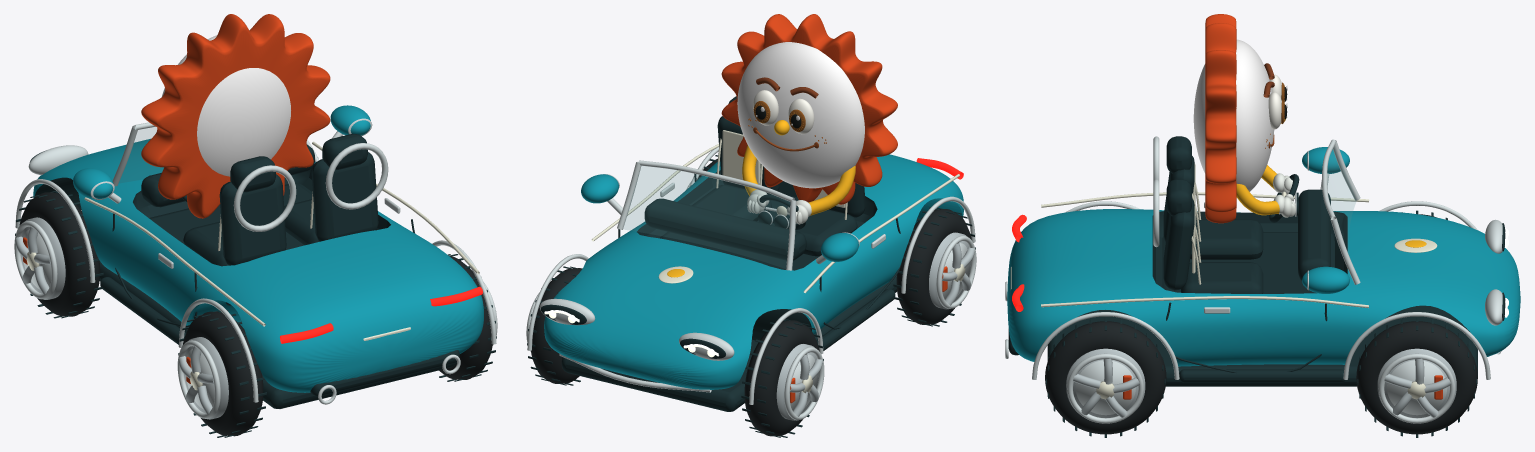
The model's file is sunny-roadster-v2.glb.
3 renders of one model, left to right at view 1: azimuth 30°, elevation 25°; view 2: azimuth 150°, elevation 25°; view 3: azimuth 270°, elevation 25°, orthographic. The views are drawn at different scales.
Visible parts, largest first — view 1: Continuous sculpted body shell, Organic fourteen ray corona, Sculpted Sunny body, Rounded performance tire.001, Rounded performance tire, Sport seat back, Sport seat back.001, Dark chassis, Cockpit carpet, Rear diffuser, Rounded performance tire.003, Side skirt (+24 smaller); view 2: Continuous sculpted body shell, Sculpted Sunny body, Curved transparent windshield, Organic fourteen ray corona, Dashboard, Rounded performance tire, Rounded performance tire.001, Dark chassis, Rounded performance tire.002, Cockpit carpet, Sport seat cushion, Sport seat cushion.001 (+25 smaller); view 3: Continuous sculpted body shell, Organic fourteen ray corona, Rounded performance tire.002, Rounded performance tire.003, Sculpted Sunny body, Dark chassis, Cockpit carpet, Sport seat cushion, Dashboard, Sport seat cushion.001, Side skirt.001, Sport seat back.001 (+20 smaller).
Boxes of the visible parts, box(x1,y1,x2,y2) form: Continuous sculpted body shell: box(33, 138, 483, 392); Organic fourteen ray corona: box(141, 14, 330, 218); Sculpted Sunny body: box(162, 35, 290, 176); Rounded performance tire.001: box(182, 311, 263, 436); Rounded performance tire: box(19, 192, 100, 316); Sport seat back: box(219, 174, 286, 265); Sport seat back.001: box(311, 152, 378, 241); Dark chassis: box(99, 261, 456, 408); Cockpit carpet: box(149, 183, 312, 305); Rear diffuser: box(310, 350, 459, 396); Rounded performance tire.003: box(439, 256, 492, 379); Side skirt: box(100, 277, 186, 344); Continuous sculpted body shell: box(544, 154, 963, 389); Sculpted Sunny body: box(737, 42, 864, 188); Curved transparent windshield: box(623, 166, 789, 268); Organic fourteen ray corona: box(721, 14, 897, 204); Dashboard: box(644, 198, 806, 260); Rounded performance tire: box(744, 320, 819, 436); Rounded performance tire.001: box(896, 209, 971, 324); Dark chassis: box(561, 275, 896, 411); Rounded performance tire.002: box(531, 268, 582, 383); Cockpit carpet: box(659, 200, 864, 270); Sport seat cushion: box(788, 209, 857, 256); Sport seat cushion.001: box(692, 184, 771, 221); Continuous sculpted body shell: box(1007, 209, 1520, 366); Organic fourteen ray corona: box(1205, 14, 1236, 223); Rounded performance tire.002: box(1356, 321, 1477, 434); Rounded performance tire.003: box(1045, 321, 1166, 434); Sculpted Sunny body: box(1193, 39, 1274, 191); Dark chassis: box(1047, 305, 1477, 386); Cockpit carpet: box(1162, 232, 1334, 293); Sport seat cushion: box(1190, 219, 1263, 259); Dashboard: box(1298, 189, 1330, 280); Sport seat cushion.001: box(1181, 262, 1263, 293); Side skirt.001: box(1179, 369, 1345, 382); Sport seat back.001: box(1163, 198, 1194, 290).
Size of the model in its own units: 2.52 by 2.94 by 4.07.
